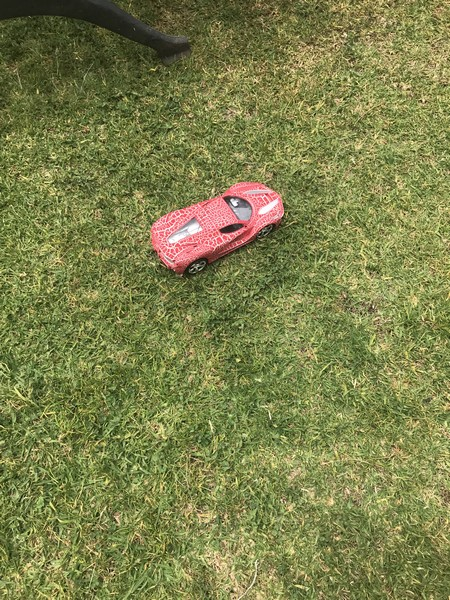RC: (148, 182, 288, 278)
